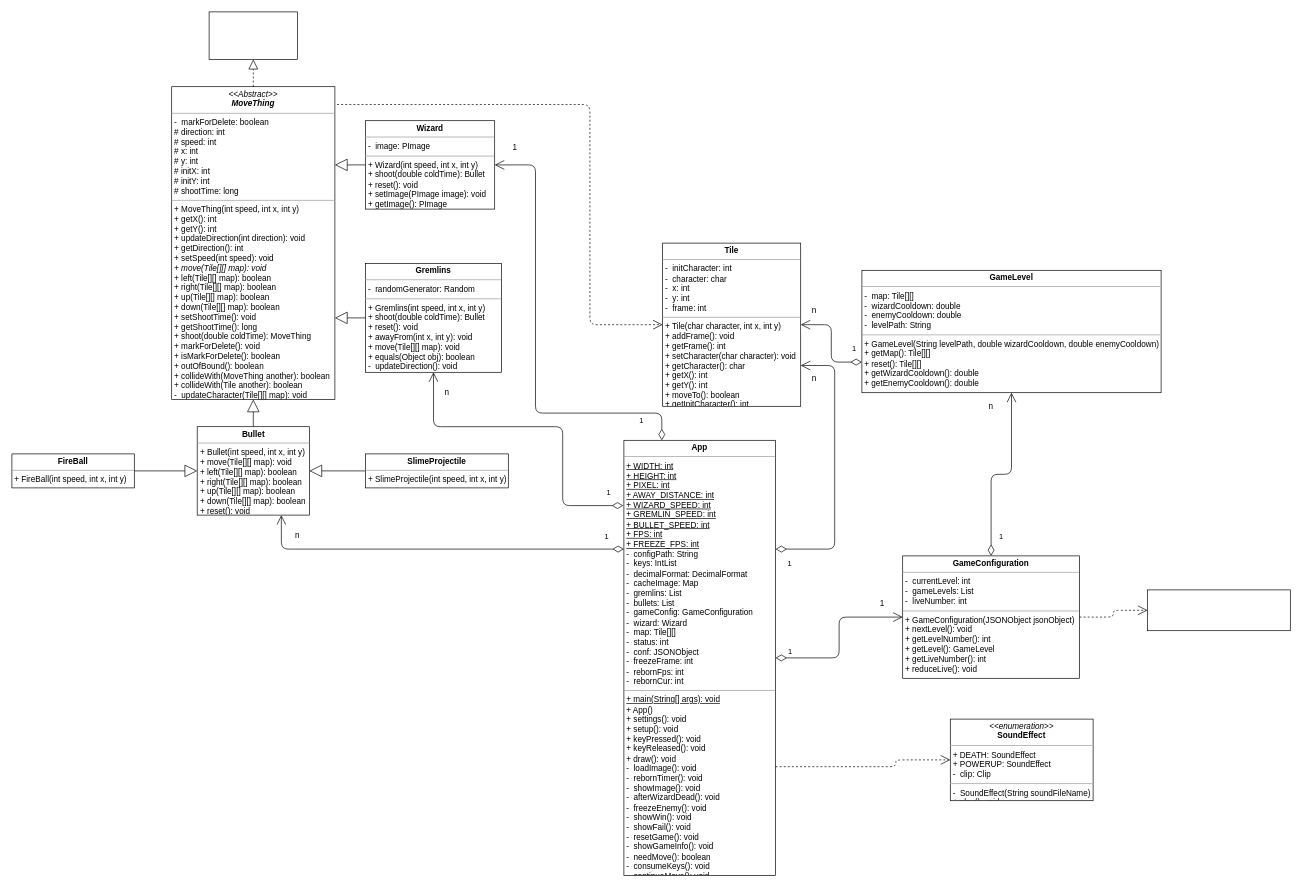
This 1302x892 diagram has some shape labels left out. The shapes that lost their labels are listed below. From the top down, each one's centre as x and y in pixels, then its label:
At pixel 253 35: "<<Interface>> Resetable + reset(): void".
At pixel 1218 610: "LevelFileUtil + readLines(String path): List<String>".
